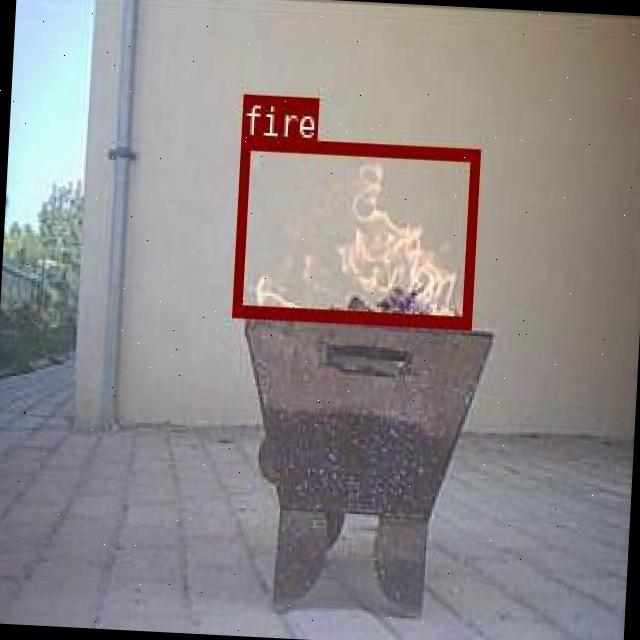fire: (232, 136, 477, 324)
